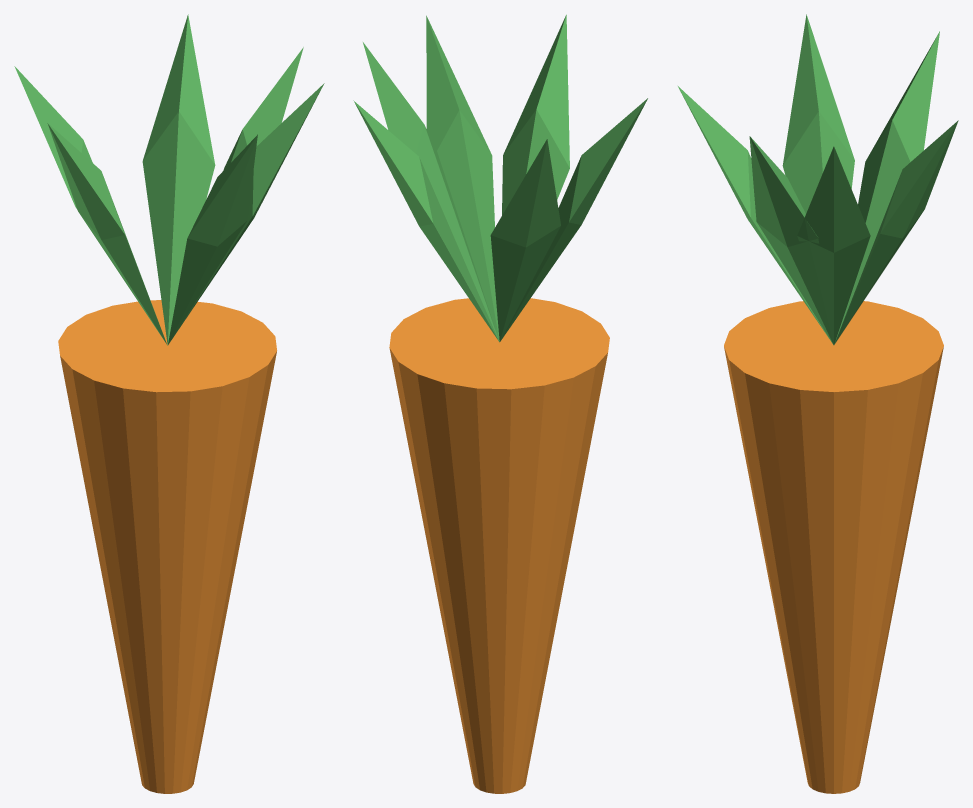
Rendered from Carrot.fbx.
3 views of the same model, side by side, from view 1: azimuth 30°, elevation 25°; view 2: azimuth 150°, elevation 25°; view 3: azimuth 270°, elevation 25° (orthographic).
Parts seen in each view (by area): view 1: GEO-Body; view 2: GEO-Body; view 3: GEO-Body.
Part boxes in pixels (<box>): GEO-Body: <box>14,14,324,793</box>; GEO-Body: <box>353,14,647,793</box>; GEO-Body: <box>678,14,958,793</box>.
Bounding box in the file's own units: 0.2977 × 0.74 × 0.2685.
